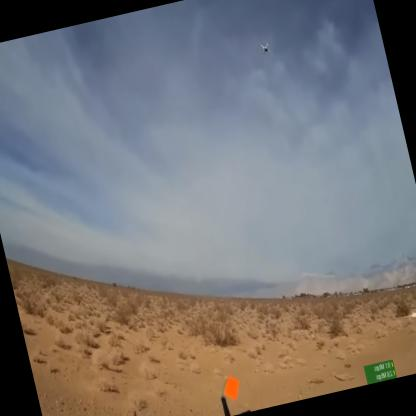drone: (253, 38, 275, 62)
